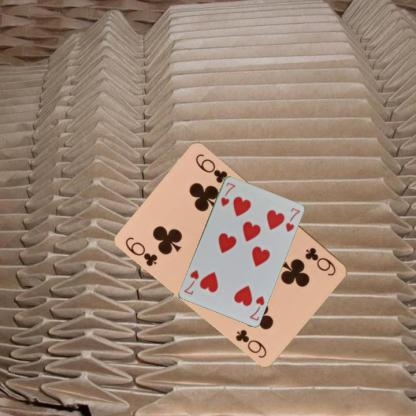6c: (122, 234, 160, 268), (302, 244, 338, 278)
7h: (247, 293, 265, 322), (218, 180, 236, 207)
